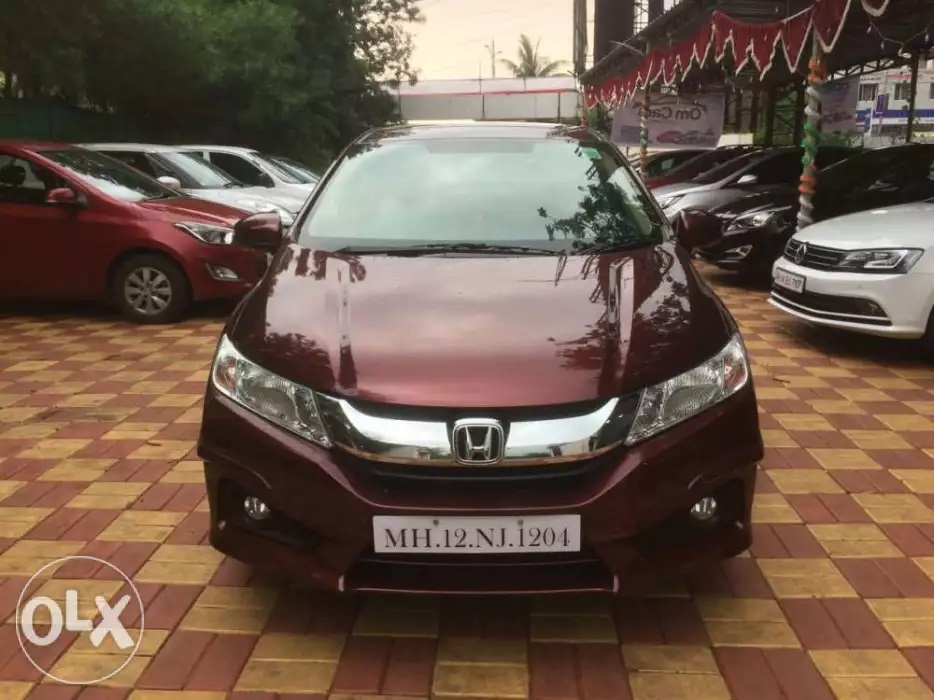licenseplate: (369, 510, 588, 559)
